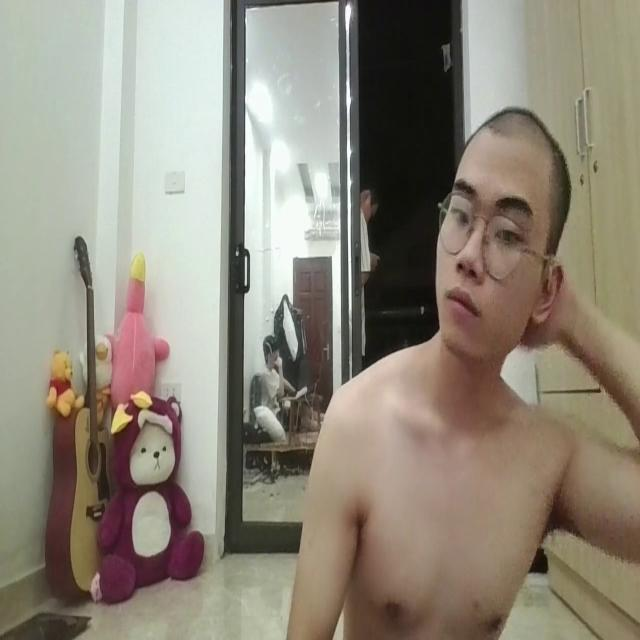extra_person: (353, 157, 389, 371), (252, 318, 300, 451)
student: (288, 102, 640, 640)
